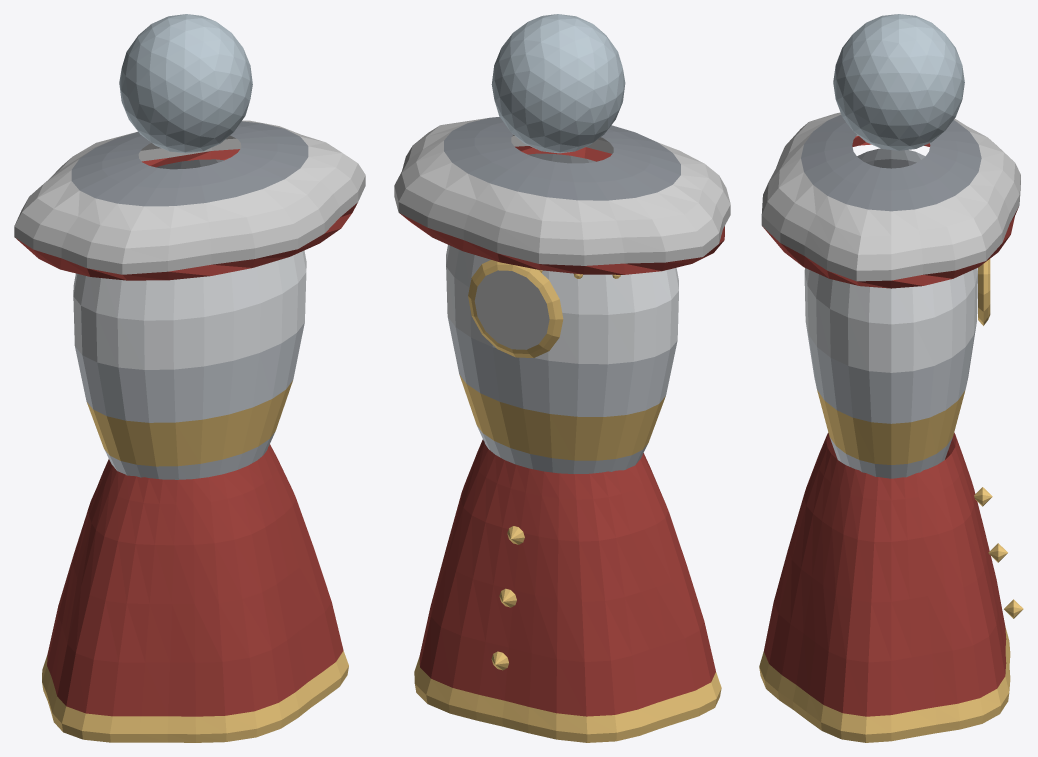
Rendered from CreatureSovereign.obj.
3 views of the same model, side by side, from view 1: azimuth 30°, elevation 25°; view 2: azimuth 150°, elevation 25°; view 3: azimuth 270°, elevation 25° (orthographic).
Bounding box in the file's own units: 4.64 × 9.35 × 3.42.
